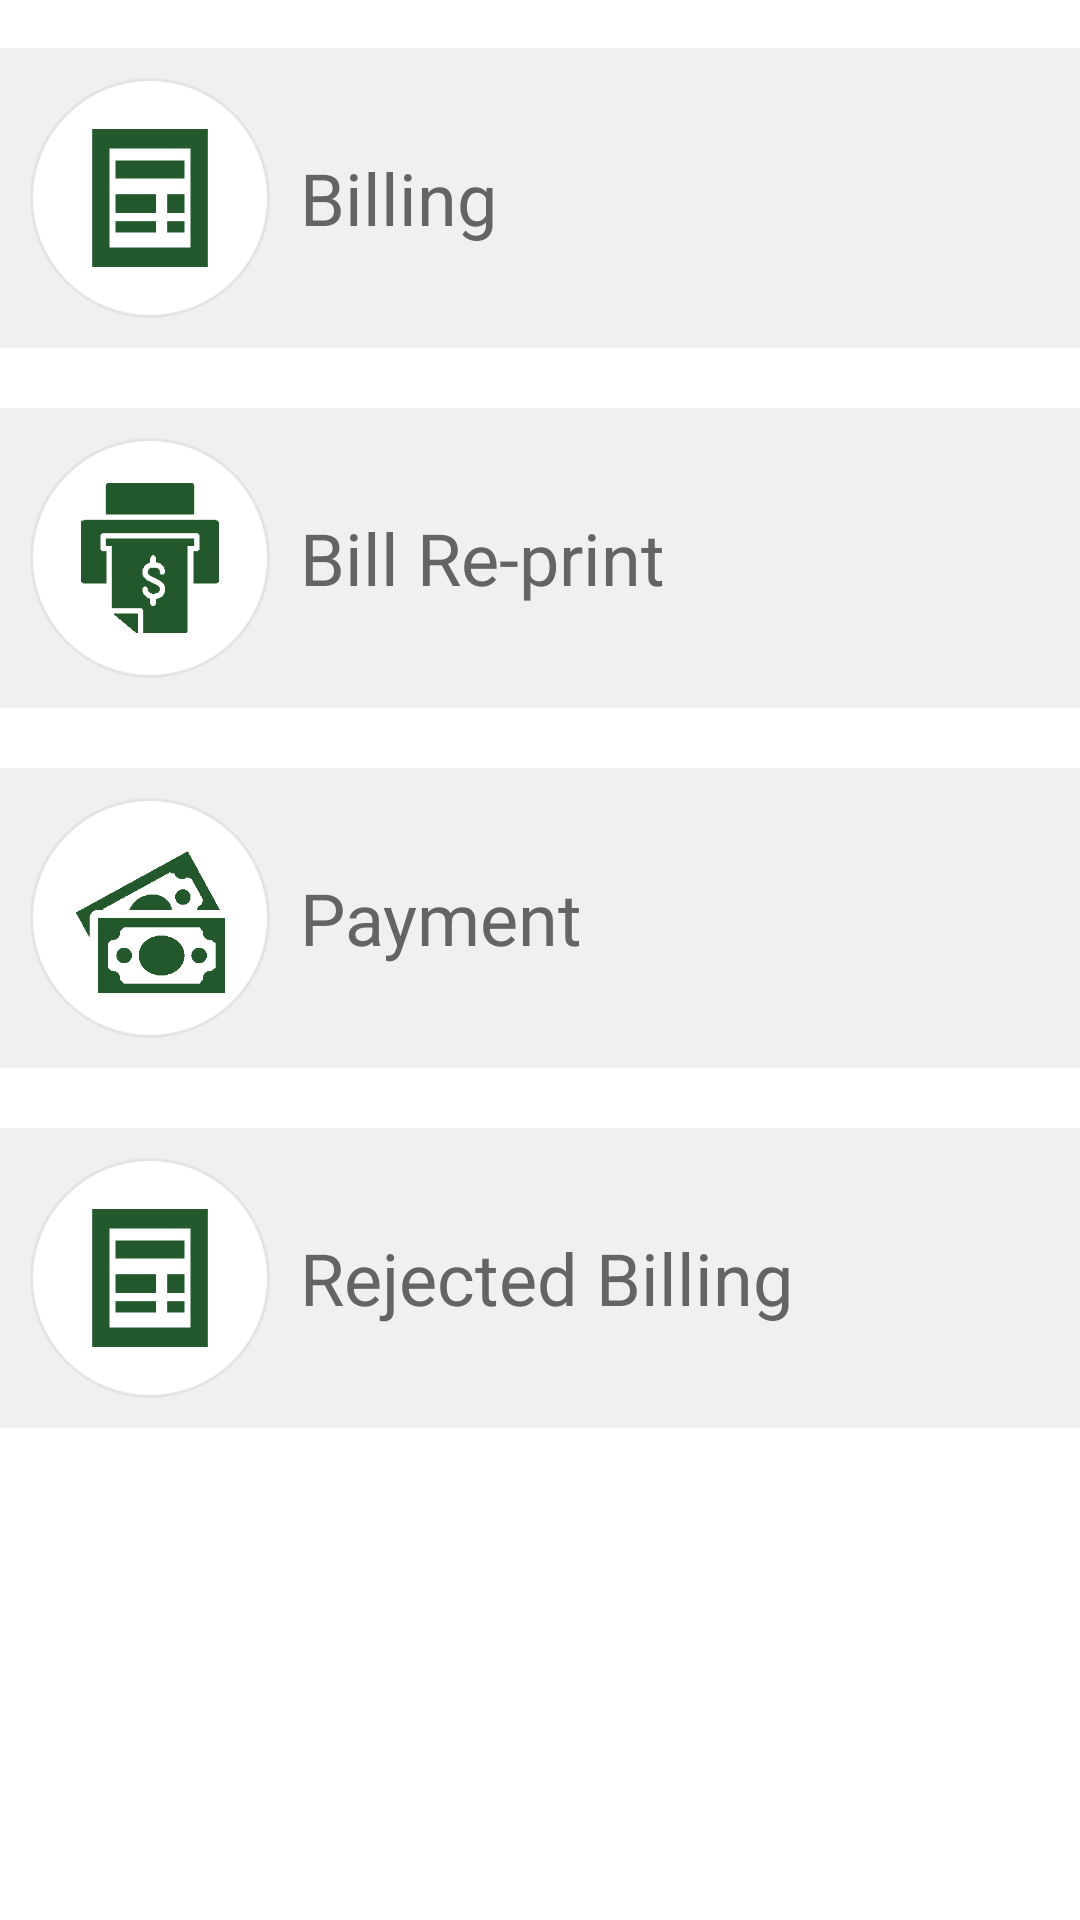

Named icons in this screenshot (1080px×1920px) and their bounding boxes, (x1, y1, x2, y2):
home billprint: (81, 483, 219, 633)
